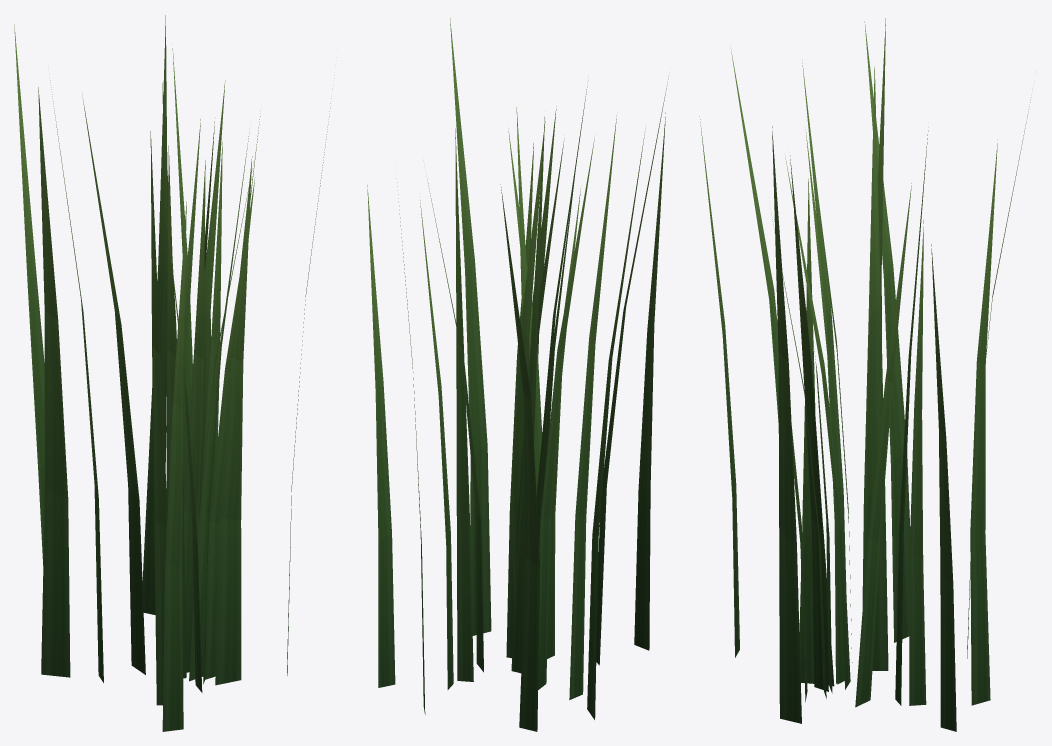
The model's file is forest_grass_002_b_LOD1.gltf.
The picture shows the model from 3 angles, left to right: view 1: azimuth 30°, elevation 25°; view 2: azimuth 150°, elevation 25°; view 3: azimuth 270°, elevation 25°; orthographic projection. The views are drawn at different scales.
Visible parts, largest first — view 1: forest_grass_002_b_LOD1; view 2: forest_grass_002_b_LOD1; view 3: forest_grass_002_b_LOD1.
Part boxes in pixels (left/top/right/bottom): forest_grass_002_b_LOD1: left=14, top=15, right=332, bottom=731; forest_grass_002_b_LOD1: left=367, top=18, right=668, bottom=731; forest_grass_002_b_LOD1: left=699, top=18, right=1031, bottom=731.
Size of the model in its own units: 0.238 by 0.5562 by 0.2761.
Materials: 1 (1 with a texture image).
